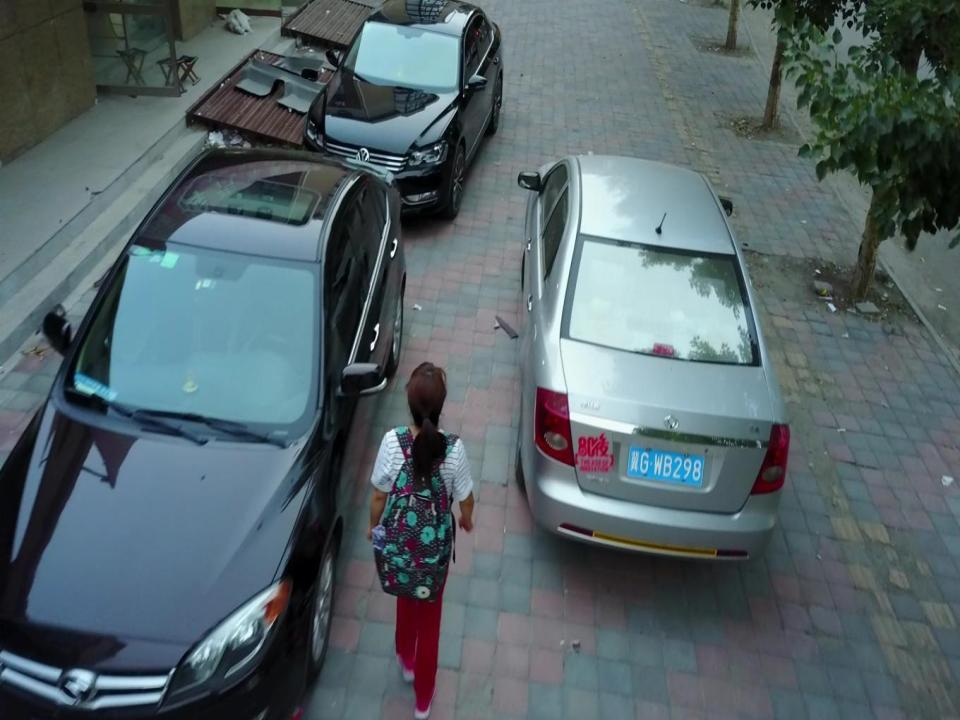car: (3, 140, 411, 720), (514, 150, 790, 568), (303, 4, 507, 223)
